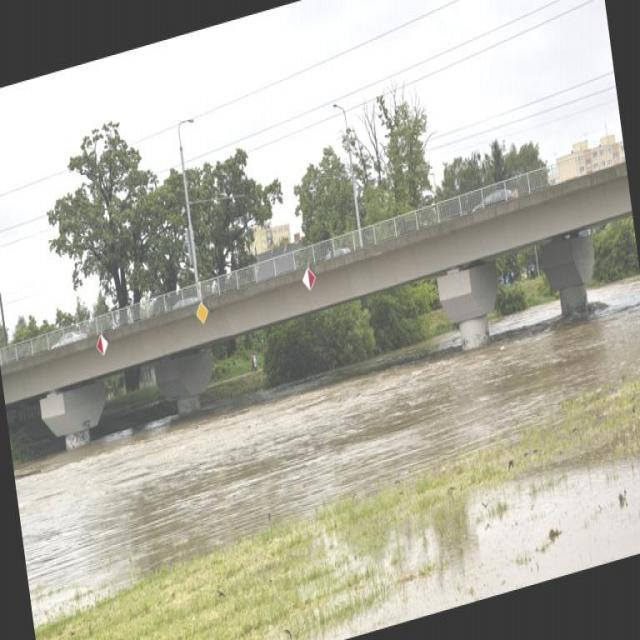flood: (9, 251, 640, 614)
